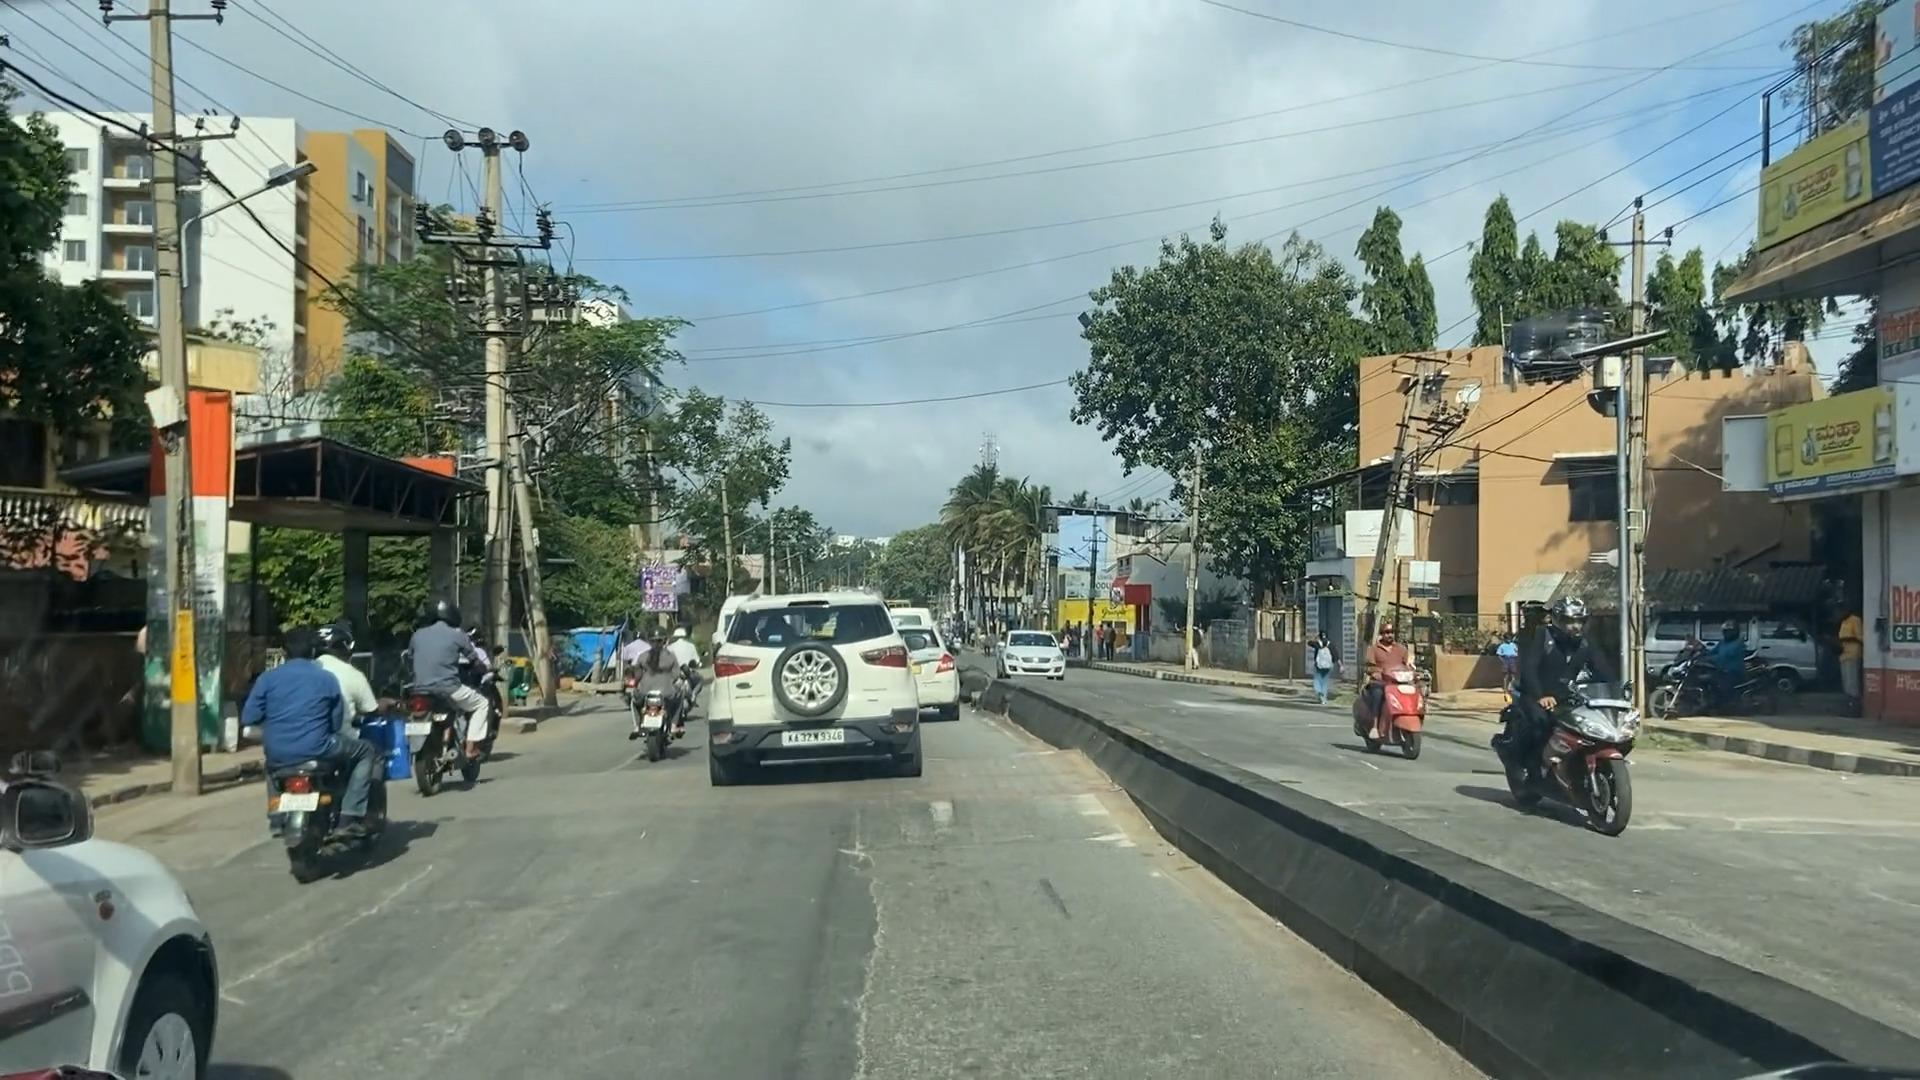LMV: (716, 600, 906, 778), (258, 645, 384, 855), (400, 604, 483, 782), (630, 634, 683, 761)
RoadDamages: (247, 857, 440, 1006), (802, 790, 898, 1080)
SpeedBump: (467, 752, 1145, 848)
